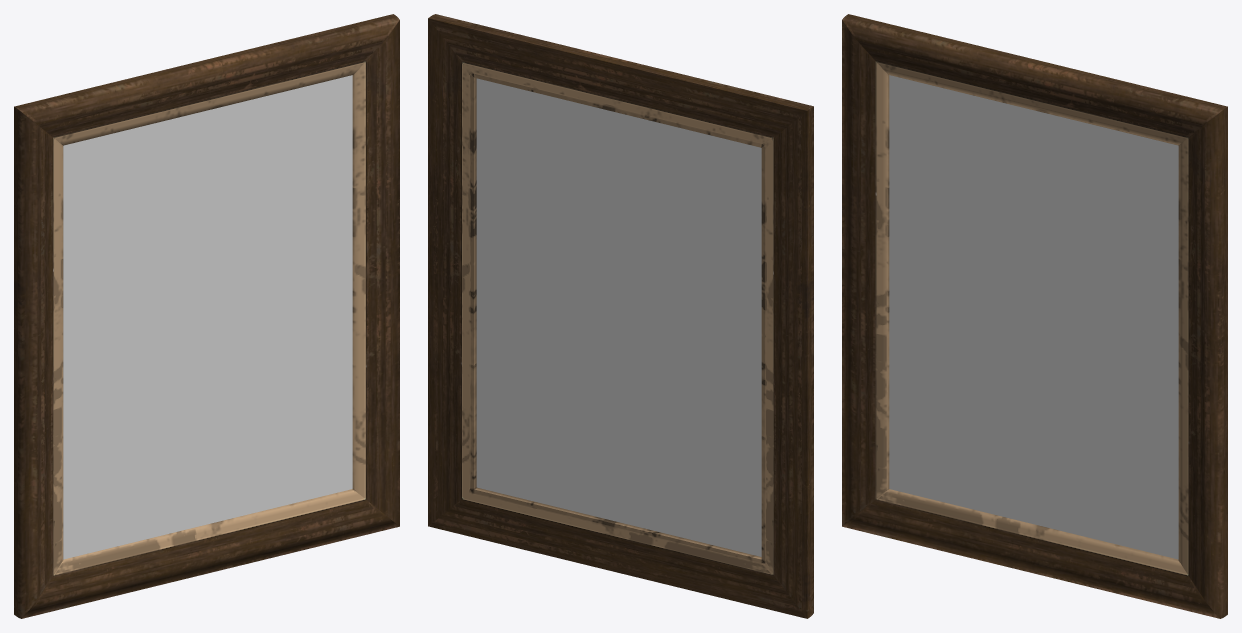
Rendered from Mirror_Largest_Framed.FBX.
3 views of the same model, side by side, from view 1: azimuth 30°, elevation 25°; view 2: azimuth 150°, elevation 25°; view 3: azimuth 330°, elevation 25° (orthographic).
Parts seen in each view (by area): view 1: Mirror_Largest_Framed; view 2: Mirror_Largest_Framed; view 3: Mirror_Largest_Framed.
Boxes of the visible parts, x1,y1,x2,y2 form: Mirror_Largest_Framed: [14, 14, 399, 618]; Mirror_Largest_Framed: [428, 14, 813, 618]; Mirror_Largest_Framed: [842, 14, 1227, 618].
Size of the model in its own units: 88.09 by 113 by 3.18.
